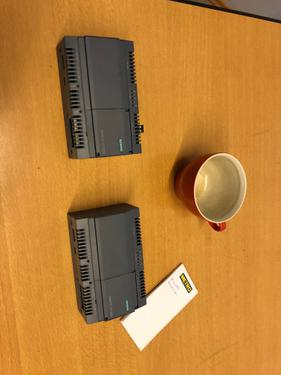device: (56, 36, 144, 160), (67, 203, 147, 325)
